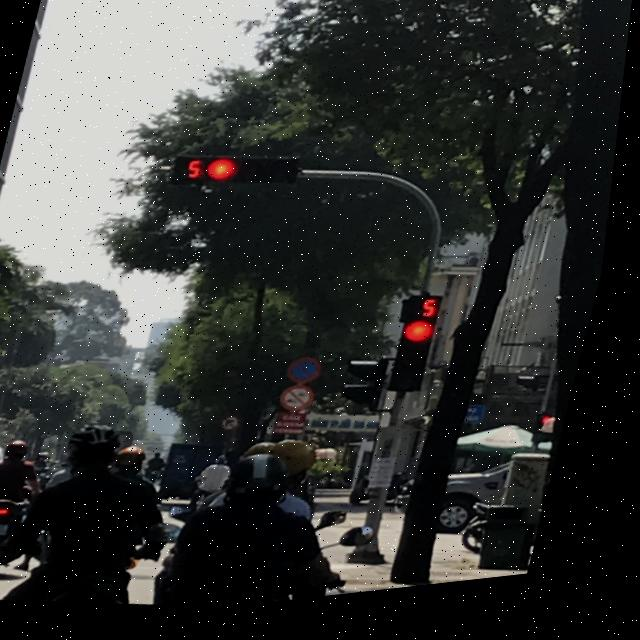Red: (195, 146, 313, 204), (394, 323, 451, 406)
